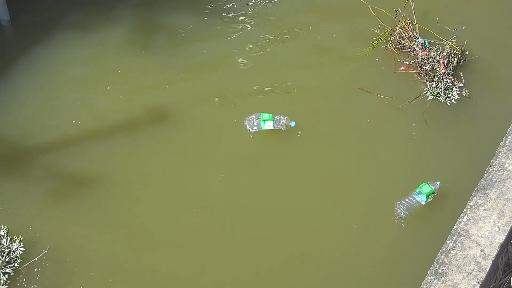plastic: (392, 173, 448, 213), (241, 109, 306, 134)
twig: (339, 0, 488, 118), (0, 217, 53, 288)
